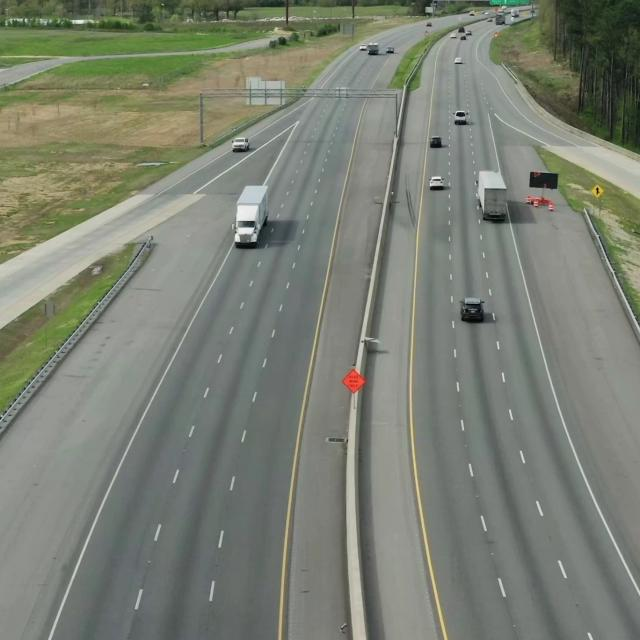Car: (236, 184, 269, 244), (476, 171, 508, 225), (458, 294, 488, 327), (231, 130, 256, 155), (454, 106, 472, 128), (428, 132, 446, 151), (429, 174, 447, 191)
